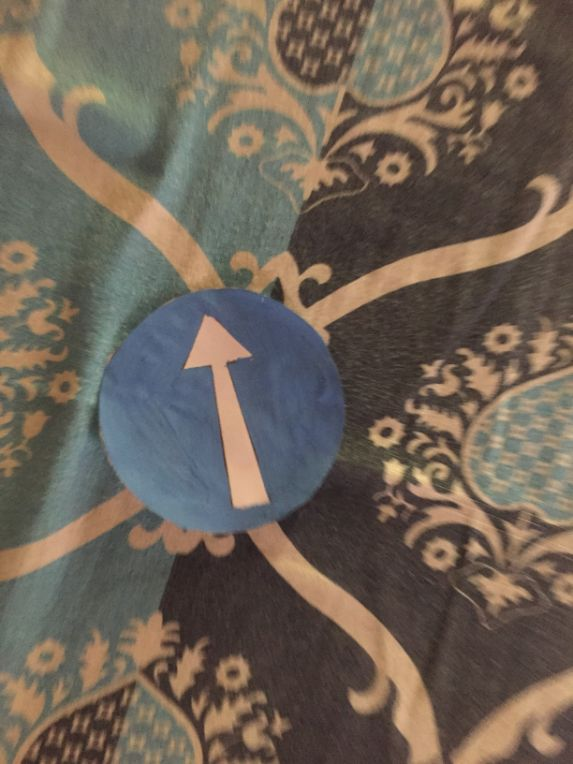keep-left: (96, 292, 347, 543)
